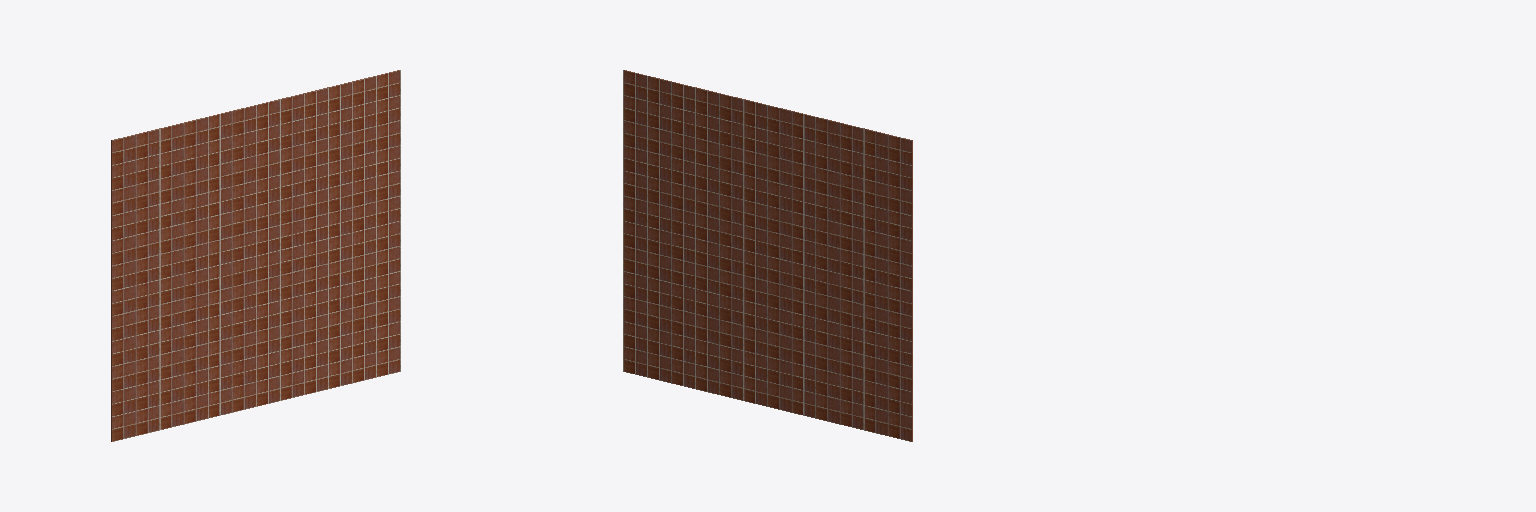
The picture shows the model from 3 angles: view 1: azimuth 30°, elevation 25°; view 2: azimuth 150°, elevation 25°; view 3: azimuth 270°, elevation 25°; orthographic projection.
Parts seen in each view (by area): view 1: Box002; view 2: Box002; view 3: none.
Part boxes in pixels (bbox=[...]): Box002: bbox=[111, 70, 400, 441]; Box002: bbox=[623, 70, 912, 441].
Size of the model in its own units: 3500 by 3495 by 10.
1 materials, 1 textured.